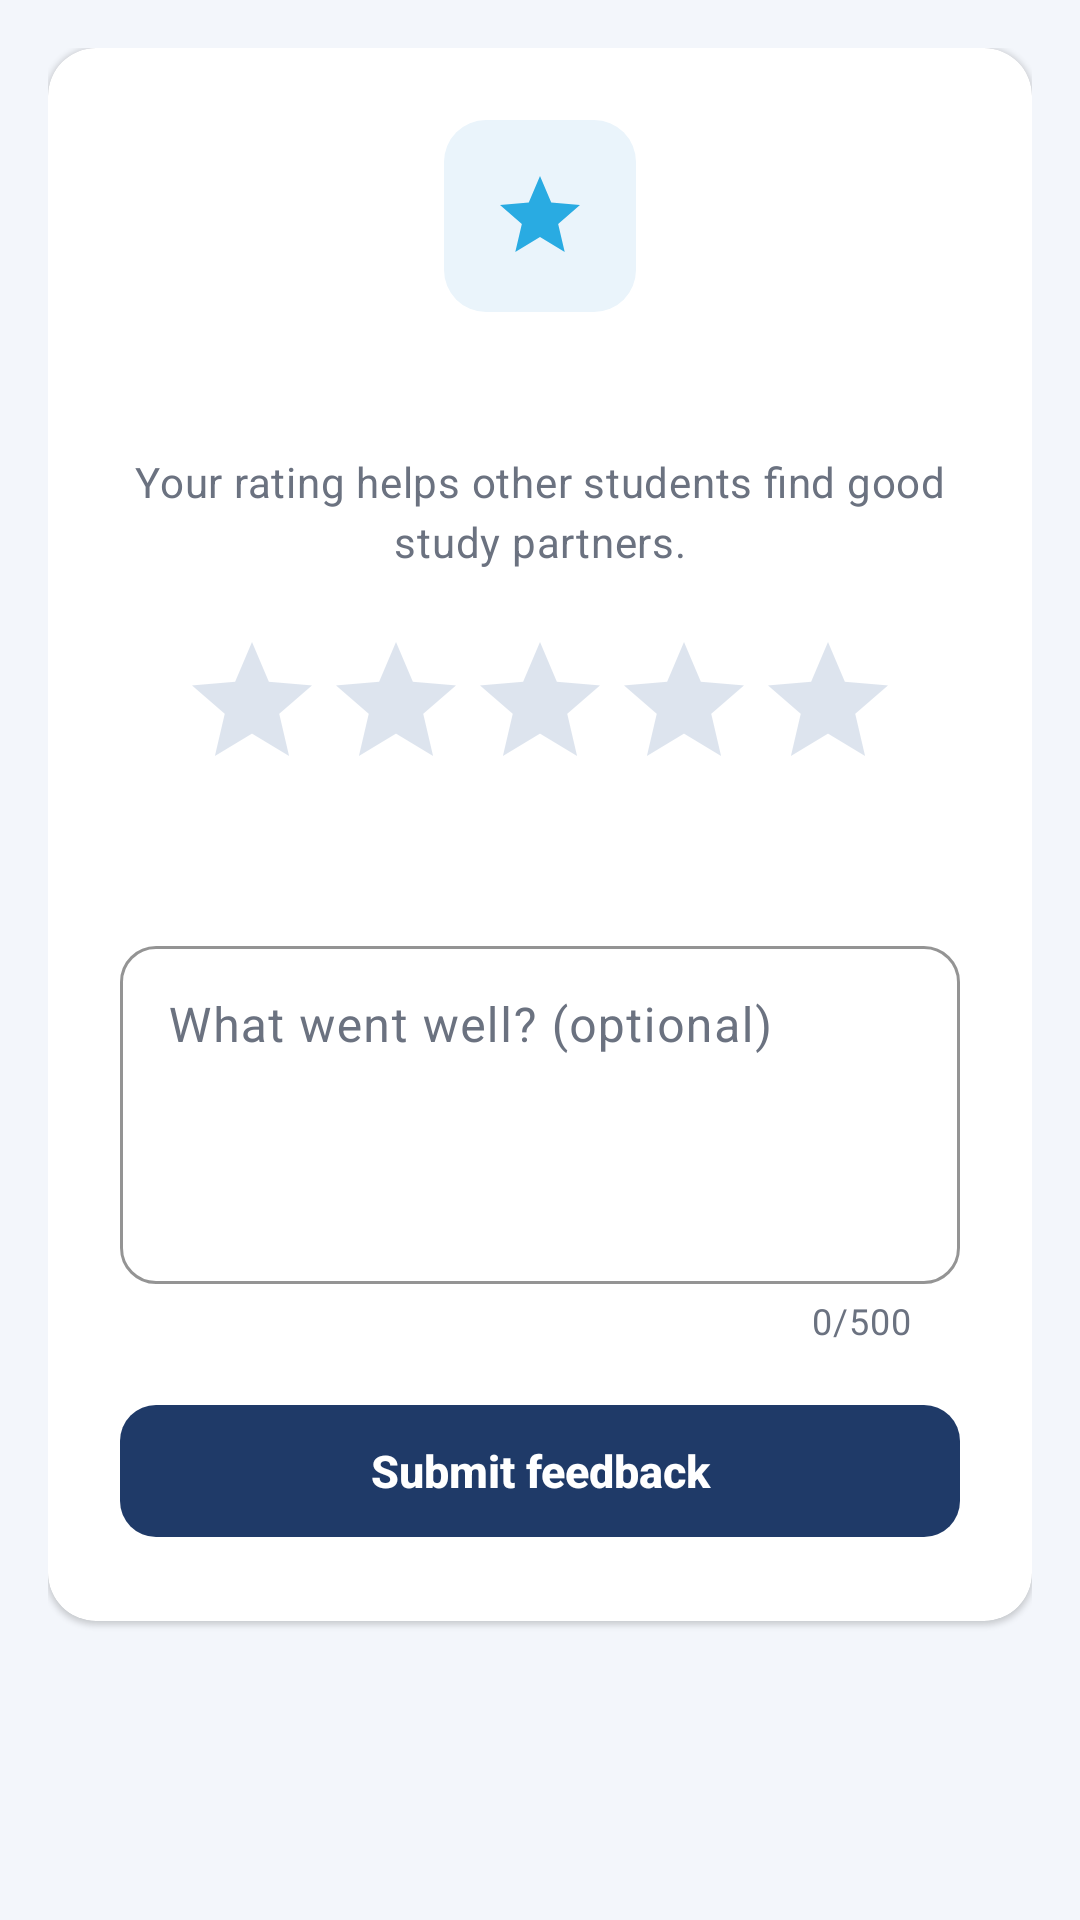

Point at icon controls on the screen. Image size 1080px×1920px, points as (x=x, y=y).
star: (x=540, y=216)
